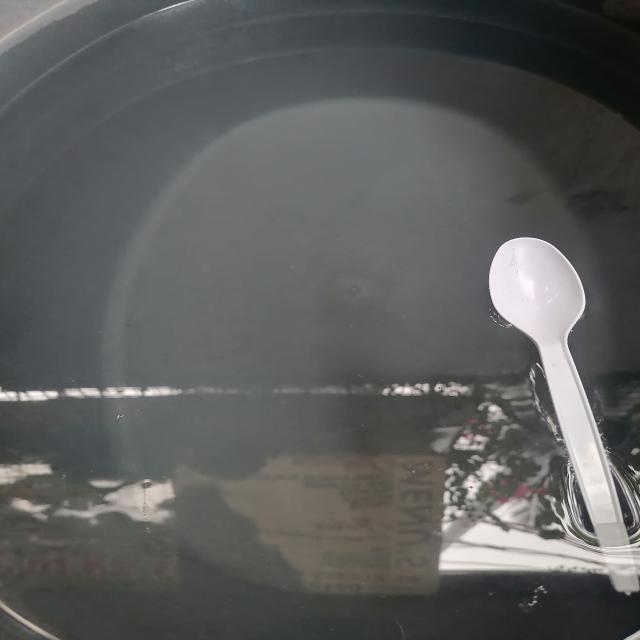Plastic Spoon: (489, 238, 640, 593)
